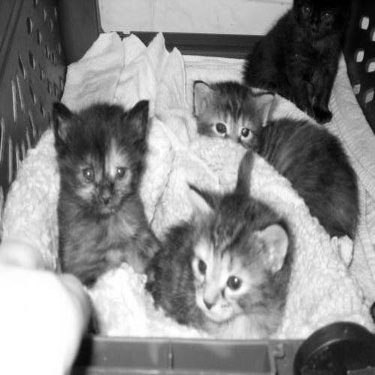cat: (145, 140, 294, 335), (190, 73, 358, 243), (42, 96, 160, 291)
